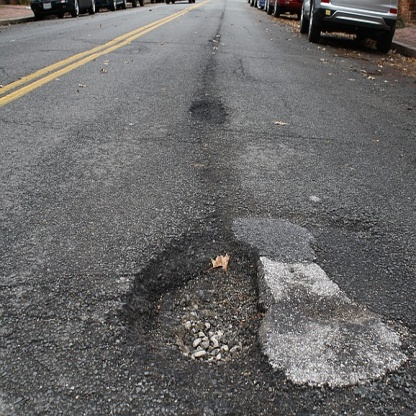pothole: (122, 212, 284, 389), (181, 89, 234, 130)
